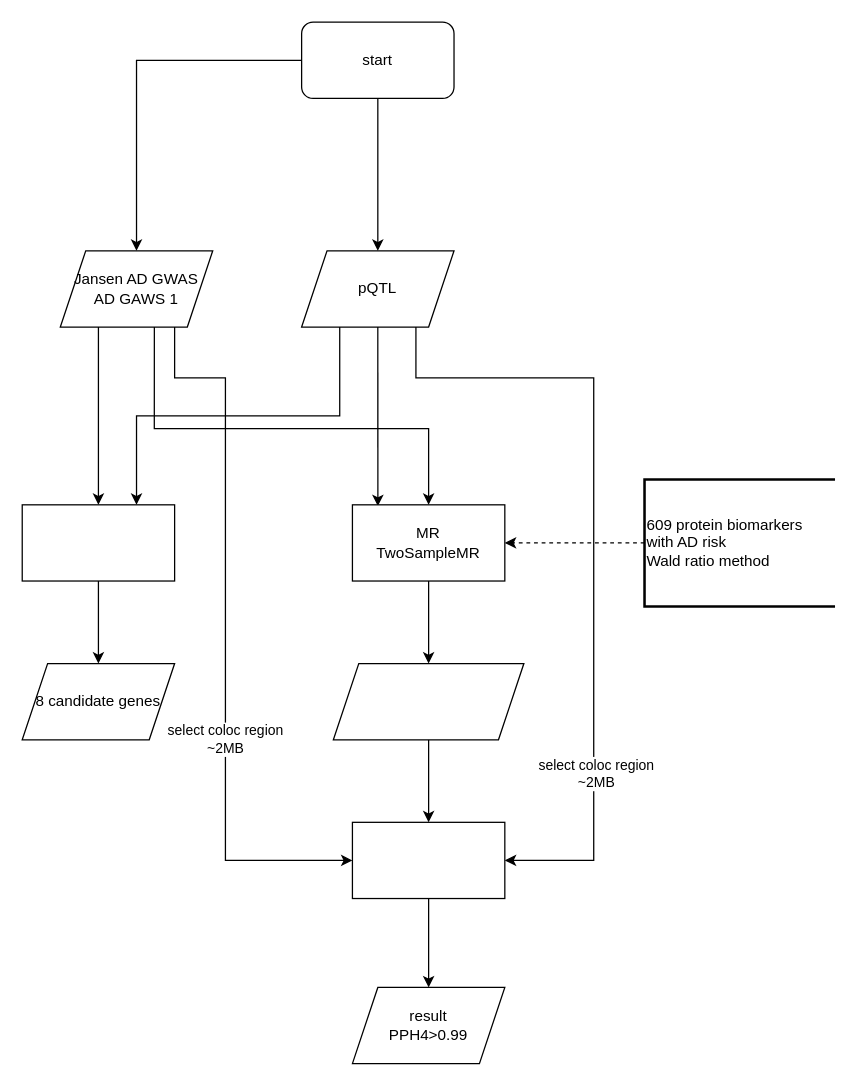
This 859x1086 diagram has some shape labels left out. Here are the shapes that lost their labels. From the top down, the centre of each, then its label:
At point (98, 542): "PWAS FUSION".
At point (428, 701): "4 candidate genes".
At point (428, 860): "coloc".
